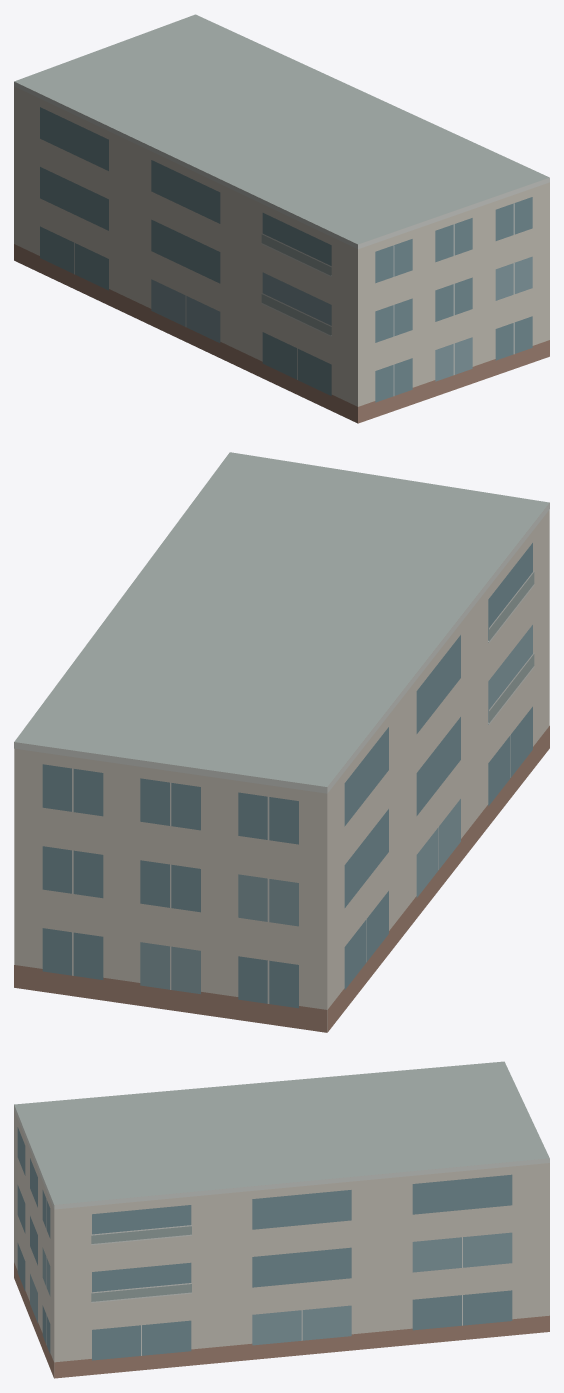
The model's file is survey-upis-32619618.glb.
3 renders of one model, top to bottom at view 1: azimuth 30°, elevation 25°; view 2: azimuth 150°, elevation 25°; view 3: azimuth 270°, elevation 25°, orthographic. The views are drawn at different scales.
Visible parts, largest first — view 1: survey-upis-32619618.tmp; view 2: survey-upis-32619618.tmp; view 3: survey-upis-32619618.tmp.
Boxes of the visible parts, <box> form: survey-upis-32619618.tmp: <box>14,14,549,423</box>; survey-upis-32619618.tmp: <box>14,452,549,1032</box>; survey-upis-32619618.tmp: <box>14,1061,549,1378</box>.
Bounding box in the file's own units: 16.24 × 9.15 × 25.62.
